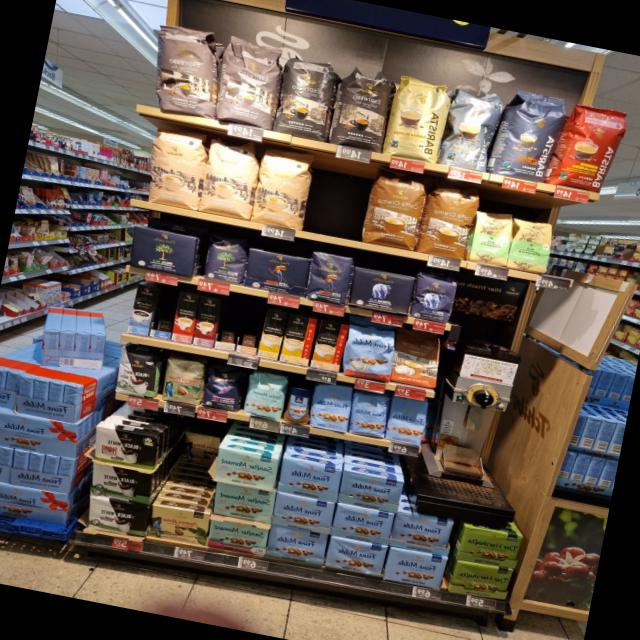AB Bohne: (409, 271, 461, 326)
AB Gemahlen: (348, 266, 416, 317)
Athiopien Gemahlen: (506, 215, 558, 276), (466, 208, 516, 268)
BM Bohne: (201, 234, 248, 286)
BM Gemahlen: (124, 224, 200, 278)
BW Bohne: (112, 346, 164, 400)
BW Gemahlen: (89, 422, 161, 472), (87, 460, 156, 506), (83, 494, 151, 540)
Barista CB: (382, 72, 453, 165)
Barista CC: (438, 82, 508, 175)
Barista Espresso: (488, 88, 570, 186)
Barista Kolumbien: (549, 98, 630, 196)
C Fino Bohne: (200, 362, 247, 414)
CC Mild: (250, 144, 318, 232), (142, 122, 210, 210), (196, 134, 262, 221)
CC Vollmundig: (390, 328, 446, 390)
CC Vollmundig 36 Pads: (359, 169, 428, 252), (417, 180, 482, 262)
Colombia BB Bohne: (158, 353, 208, 408)
Colombia BB Gemahlen: (146, 502, 210, 548)
Empty Shelf: (302, 155, 373, 242), (237, 304, 266, 349), (152, 288, 180, 334), (216, 300, 243, 345)
Espresso M Art: (141, 20, 224, 120), (210, 34, 286, 130)
Espresso S Art: (326, 64, 396, 152), (270, 52, 340, 140)
FM 36 Pads: (340, 322, 398, 384)
FM Bohne: (306, 380, 354, 434), (384, 395, 430, 447), (346, 388, 392, 439)
FM Gemahlen: (337, 468, 405, 514), (388, 510, 454, 557), (382, 546, 448, 592), (323, 535, 388, 581), (276, 457, 342, 502), (270, 492, 336, 536), (331, 502, 396, 546), (265, 524, 328, 566)
FM Instant: (282, 385, 314, 426)
Herzhatfe Mundig: (456, 522, 525, 570), (448, 558, 516, 604)
LG Bohne: (304, 248, 354, 306)
LG Gemahlen: (242, 248, 311, 298)
SM Bohne: (240, 368, 289, 422)
SM Gemahlen: (212, 446, 280, 492), (212, 481, 276, 525), (206, 517, 270, 558)
Simo CCMild: (280, 313, 318, 366)
Simo CCMild bigpack: (257, 308, 288, 361)
Simo CCVollmundig: (311, 319, 348, 373)
Simo Es Brazil: (172, 292, 200, 344)
Simo Es Caramel: (192, 296, 222, 348)
Simo Es Vanilla: (128, 284, 158, 337)
